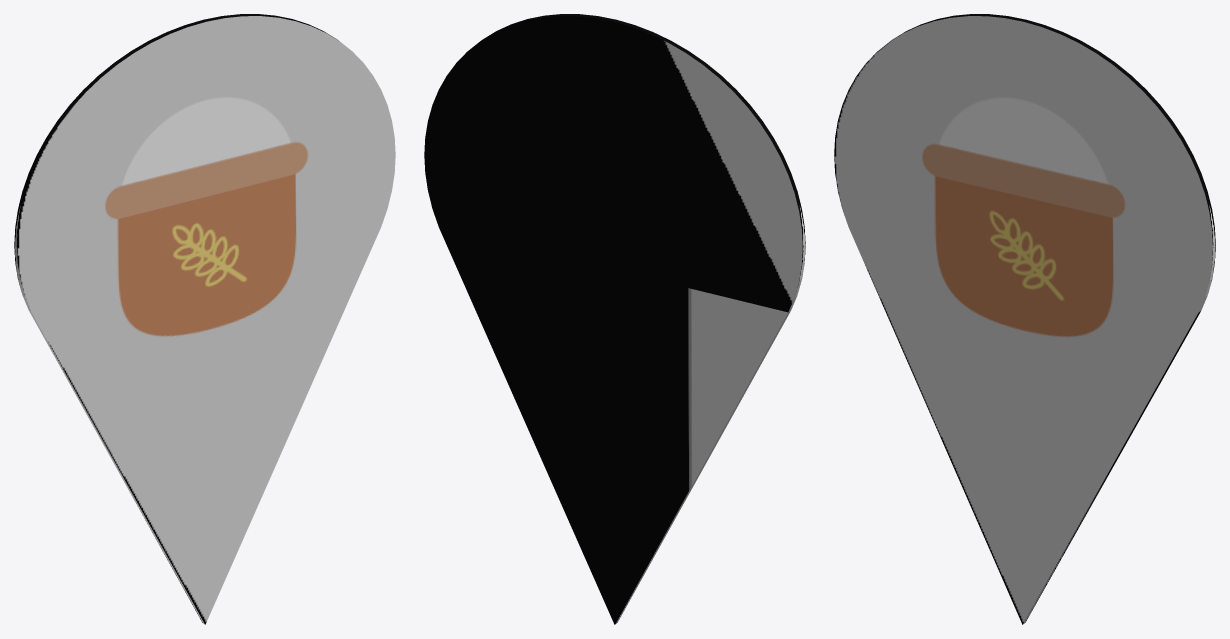
3 renders of one model, left to right at view 1: azimuth 30°, elevation 25°; view 2: azimuth 150°, elevation 25°; view 3: azimuth 330°, elevation 25°, orthographic.
Visible parts, largest first — view 1: Куб.002; view 2: Куб.002; view 3: Куб.002.
Part boxes in pixels (left/top/right/bottom): Куб.002: left=14, top=14, right=395, bottom=624; Куб.002: left=424, top=14, right=805, bottom=624; Куб.002: left=834, top=14, right=1215, bottom=624.
Size of the model in its own units: 2.83 by 4.3 by 0.0368.
1 material, 1 textured.
